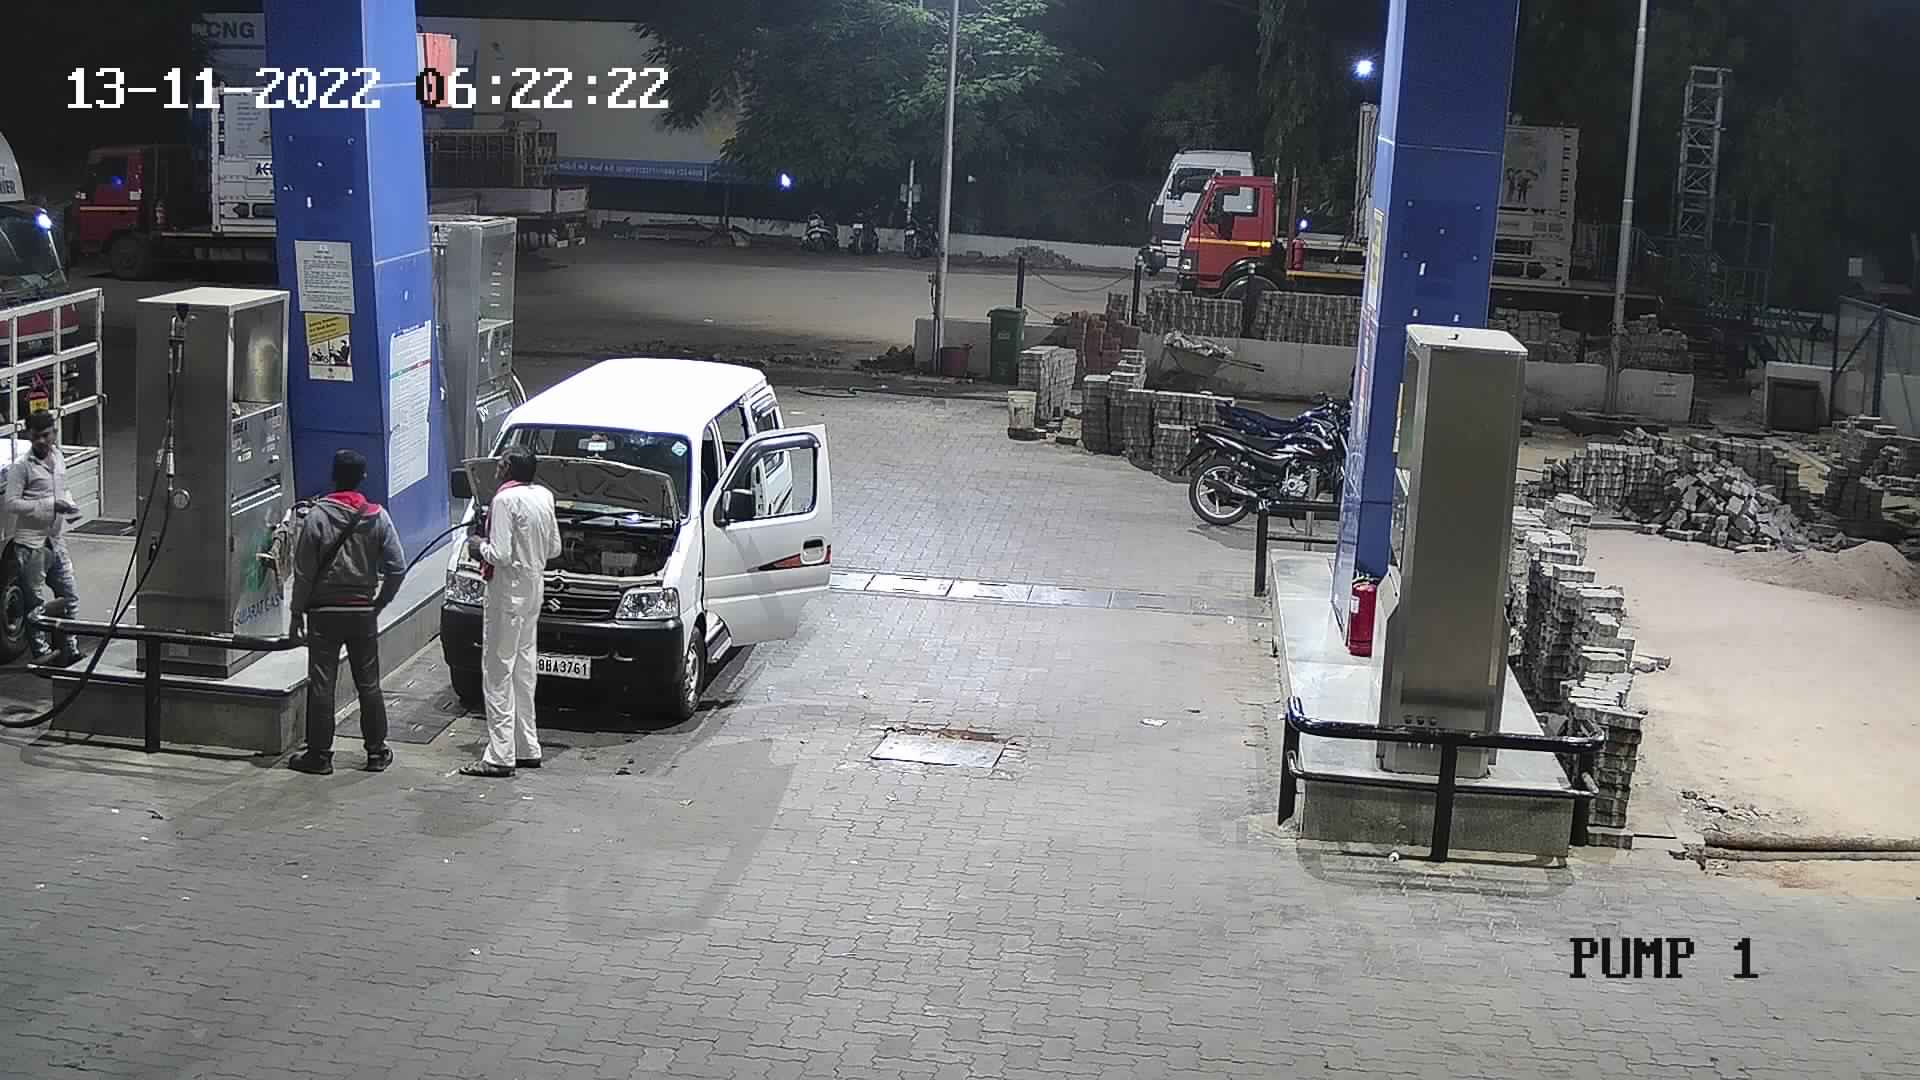Bike: (1166, 363, 1358, 545), (793, 185, 851, 257), (895, 194, 940, 269), (840, 194, 887, 260)
Car: (427, 349, 836, 728), (3, 266, 123, 690)
HMV: (1478, 109, 1689, 363), (1124, 98, 1379, 286), (53, 76, 287, 281), (406, 78, 607, 273), (0, 98, 90, 458)
Others: (282, 443, 411, 777)
